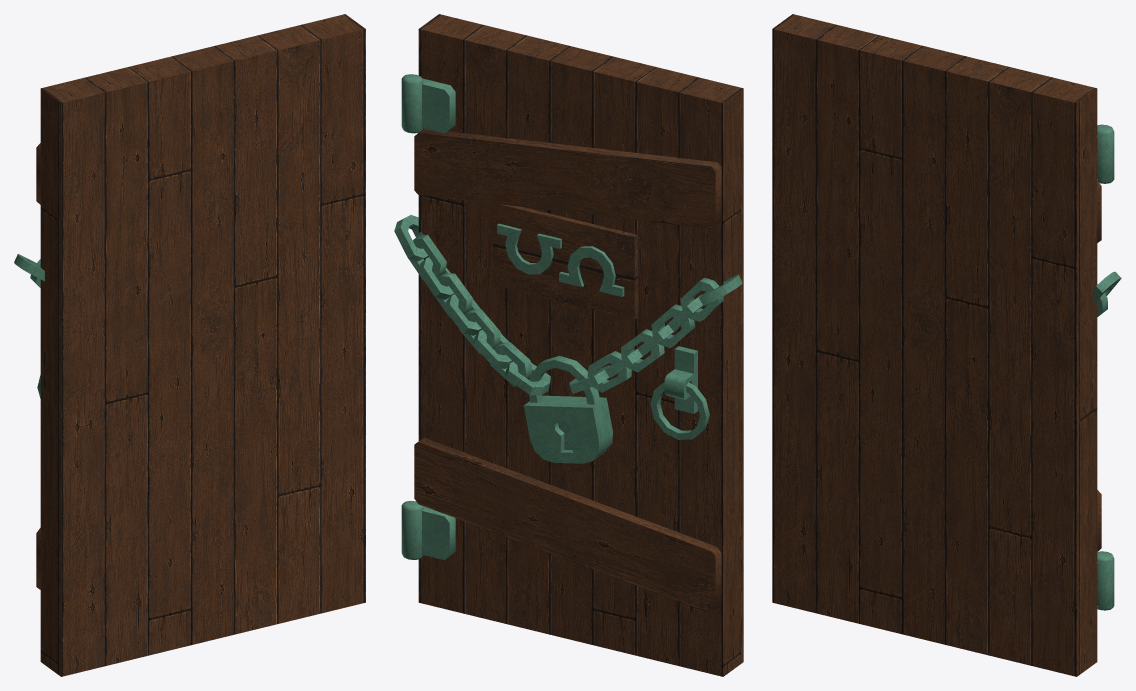
The model's file is Bedroom_Base_Z_Door.fbx.
The picture shows the model from 3 angles, left to right: view 1: azimuth 30°, elevation 25°; view 2: azimuth 150°, elevation 25°; view 3: azimuth 330°, elevation 25°; orthographic projection.
Visible parts, largest first — view 1: Bedroom_Base_Z_Door; view 2: Bedroom_Base_Z_Door; view 3: Bedroom_Base_Z_Door.
Part boxes in pixels (left/top/right/bottom): Bedroom_Base_Z_Door: left=14, top=14, right=365, bottom=676; Bedroom_Base_Z_Door: left=394, top=14, right=743, bottom=676; Bedroom_Base_Z_Door: left=772, top=14, right=1121, bottom=676.
Bounding box in the file's own units: 117 × 190 × 26.94.
